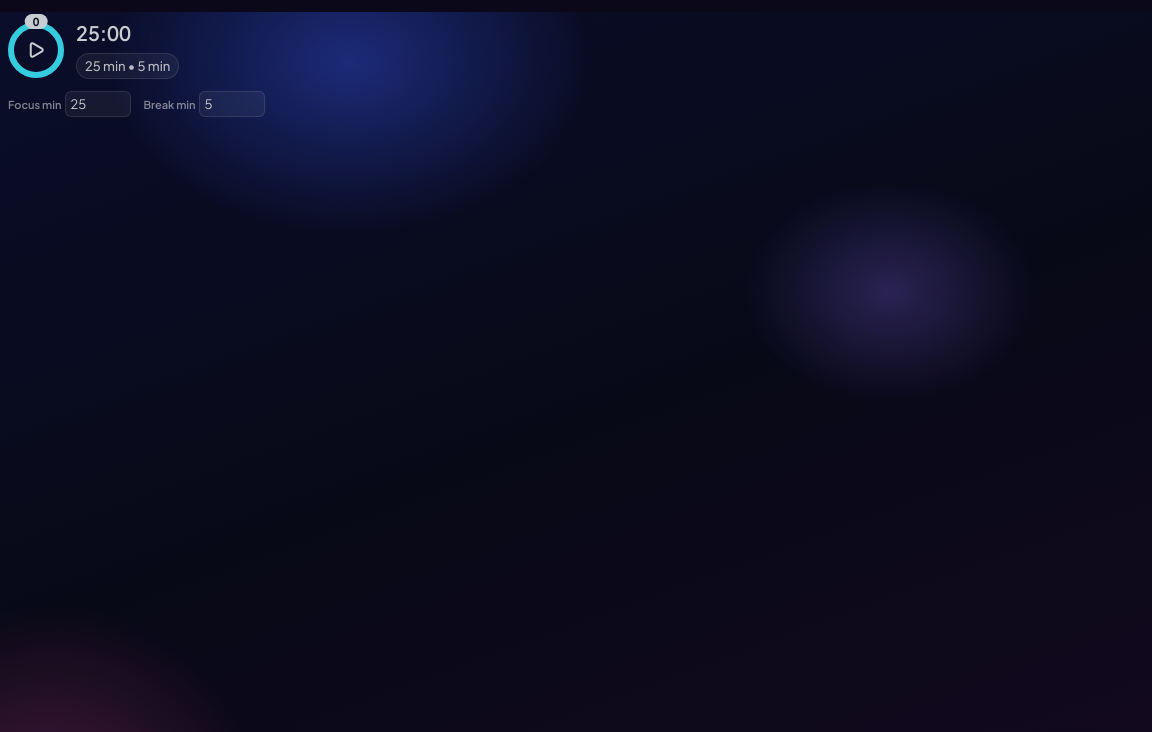
FocusWidget › offers the earned break after a skip
This screenshot has width=1152, height=732.
What coordinates should you click on to do the following:
click the button named "Start focus"
I would click on:
 (36, 50)
Its box is [14,28,58,72].
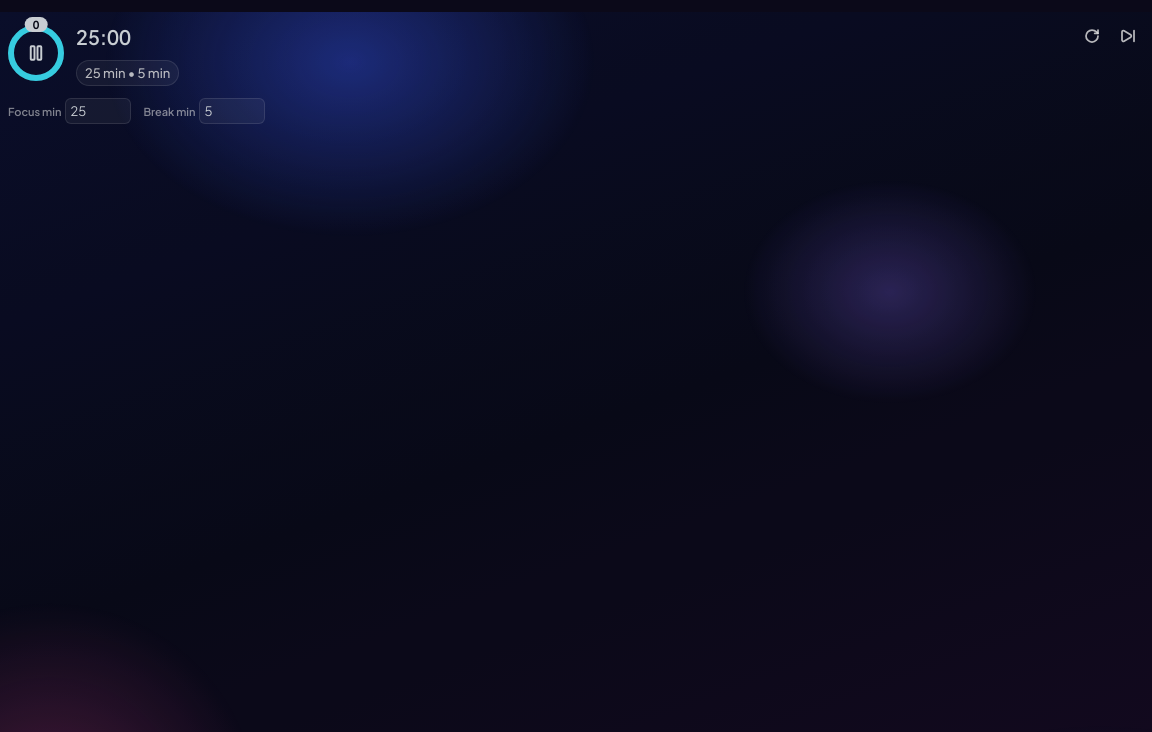
What coordinates should you click on to do the following:
click the button named "Skip"
I would click on:
 (1128, 36)
Its box is [1112,20,1144,52].
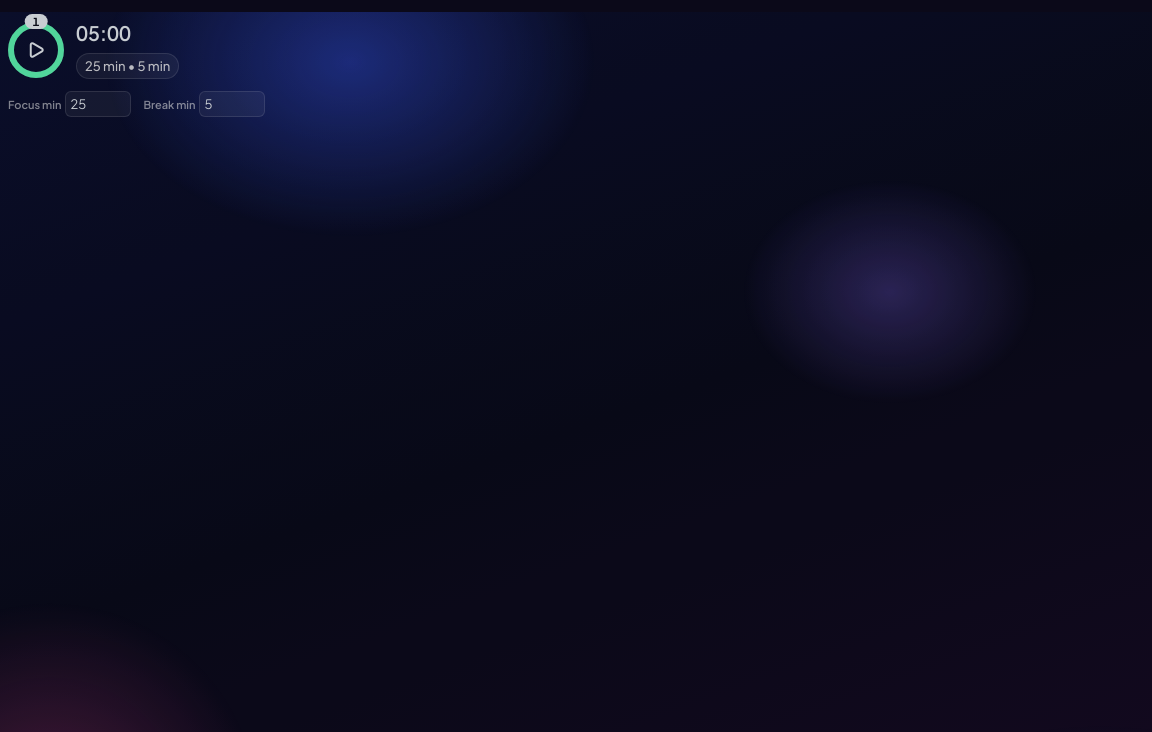
What coordinates should you click on to do the following:
click the button named "Start break"
I would click on:
 (36, 50)
Its box is [14,28,58,72].
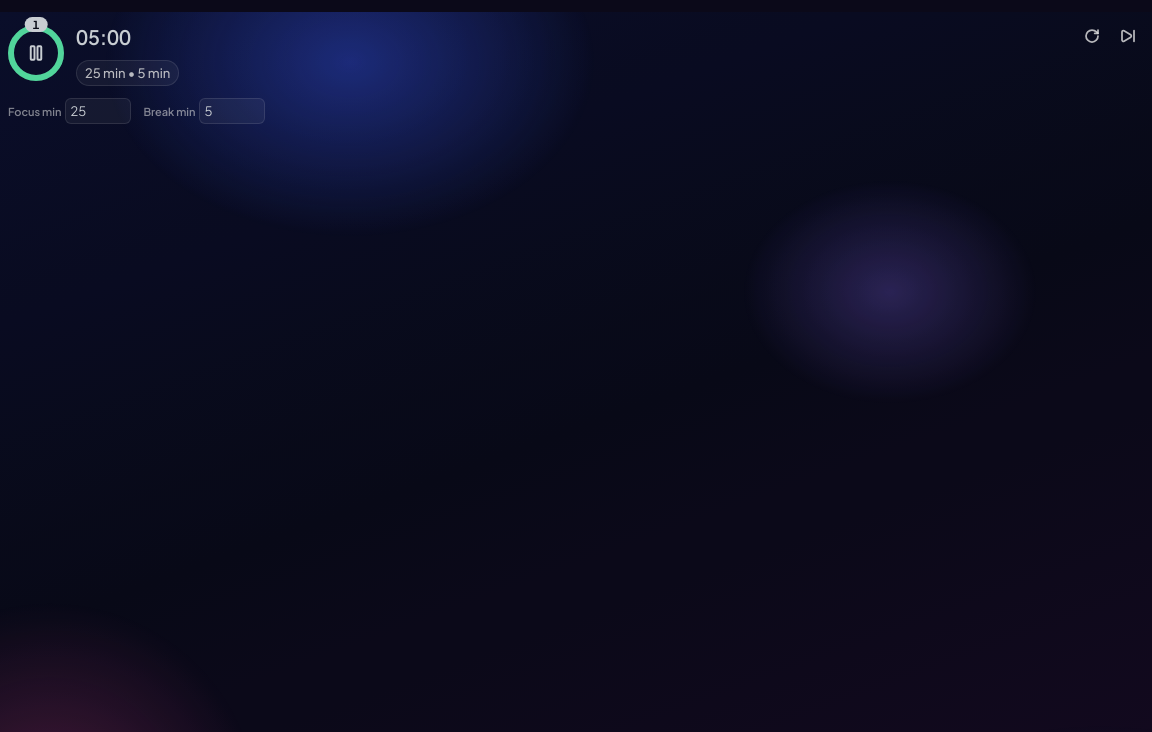
Result: the text with test id "focus-clock" reads "05:00" at [76,24,131,48]
Result: the button named "Pause" is shown at [14,31,58,75]
